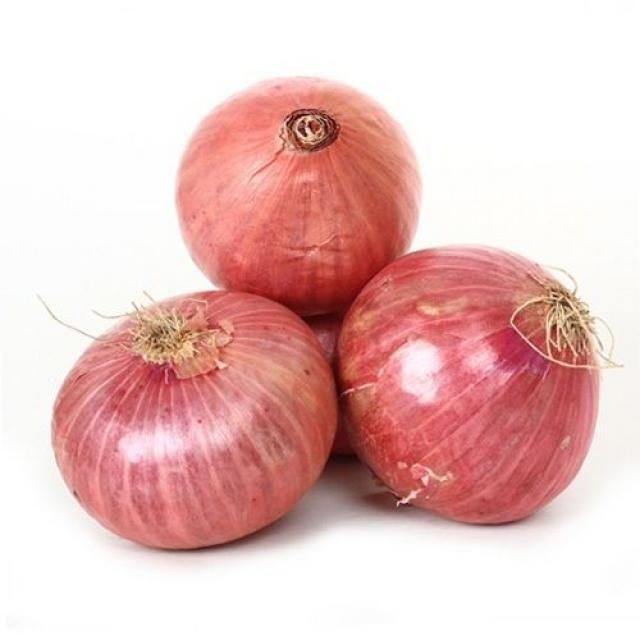onion: (49, 294, 342, 560), (341, 245, 598, 527), (177, 76, 421, 306)
